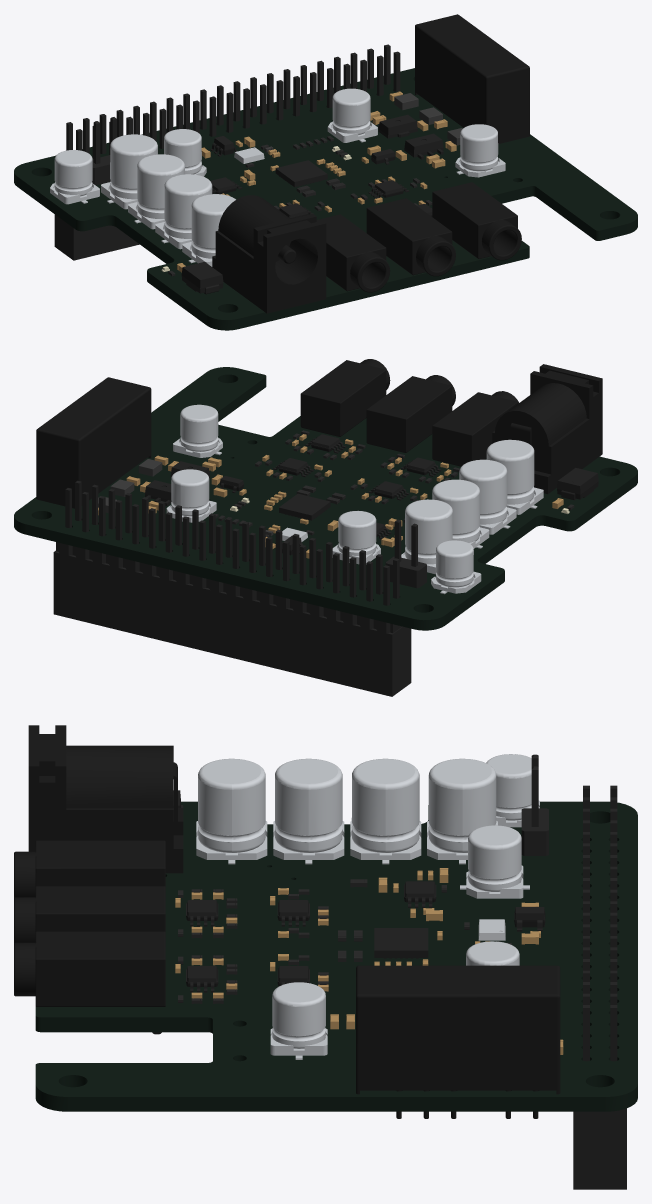
3 renders of one model, top to bottom at view 1: azimuth 30°, elevation 25°; view 2: azimuth 150°, elevation 25°; view 3: azimuth 270°, elevation 25°, orthographic. The views are drawn at different scales.
Visible parts, largest first — view 1: __board, J6, PS1, J1, J5, J4, J3, C6, C9, C10, C3, C17 (+9 smaller); view 2: __board, J6, PS1, J1, J5, J4, J3, C3, C6, C10, C9, C16 (+11 smaller); view 3: __board, PS1, J1, J4, J6, J3, J5, C9, C3, C6, C10, C24 (+10 smaller).
Part boxes in pixels (x1=…): __board: x1=14, y1=68, x2=637, y2=330; J6: x1=54, y1=44, x2=400, y2=260; PS1: x1=415, y1=14, x2=529, y2=143; J1: x1=212, y1=195, x2=326, y2=313; J5: x1=366, y1=198, x2=455, y2=276; J4: x1=432, y1=182, x2=521, y2=260; J3: x1=316, y1=214, x2=390, y2=292; C6: x1=155, y1=174, x2=212, y2=249; C9: x1=128, y1=154, x2=184, y2=229; C10: x1=101, y1=134, x2=157, y2=209; C3: x1=182, y1=194, x2=235, y2=266; C17: x1=327, y1=88, x2=377, y2=142; __board: x1=14, y1=367, x2=637, y2=630; J6: x1=53, y1=480, x2=411, y2=696; PS1: x1=36, y1=377, x2=151, y2=508; J1: x1=492, y1=364, x2=602, y2=494; J5: x1=366, y1=375, x2=455, y2=452; J4: x1=300, y1=359, x2=390, y2=436; J3: x1=432, y1=391, x2=518, y2=466; C3: x1=486, y1=439, x2=543, y2=514; C6: x1=459, y1=459, x2=516, y2=534; C10: x1=401, y1=499, x2=452, y2=574; C9: x1=432, y1=479, x2=489, y2=548; C16: x1=173, y1=404, x2=222, y2=457; __board: x1=35, y1=801, x2=637, y2=1111; PS1: x1=356, y1=965, x2=560, y2=1118; J1: x1=28, y1=725, x2=183, y2=873; J4: x1=14, y1=931, x2=165, y2=1034; J6: x1=573, y1=785, x2=626, y2=1189; J3: x1=14, y1=840, x2=165, y2=897; J5: x1=14, y1=886, x2=165, y2=943; C9: x1=350, y1=758, x2=421, y2=864; C3: x1=196, y1=758, x2=267, y2=864; C6: x1=273, y1=758, x2=344, y2=864; C10: x1=427, y1=758, x2=497, y2=864; C24: x1=460, y1=825, x2=529, y2=898.
Bounding box in the file's own units: 65 × 23.73 × 58.
